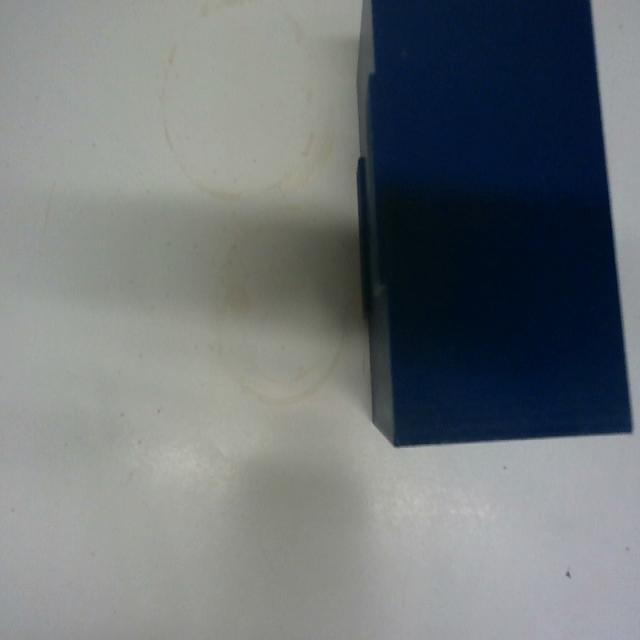Blue Cuboid: (353, 0, 633, 449)
